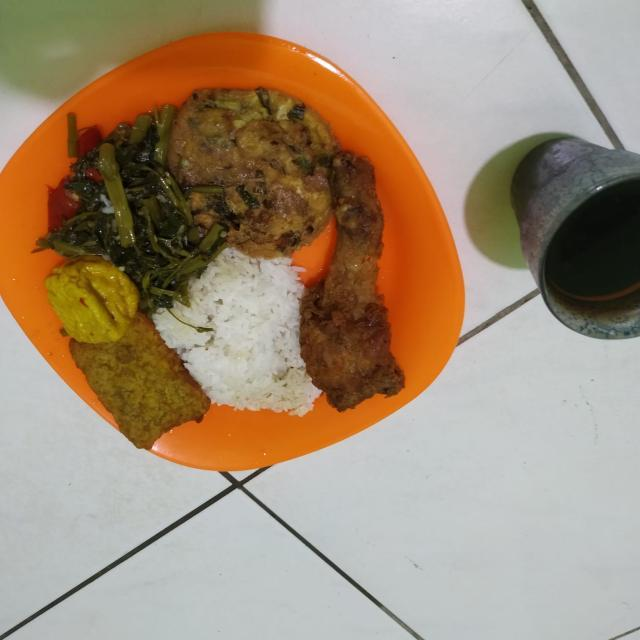ayam_goreng: (287, 158, 407, 414)
nasi_putih: (152, 260, 316, 404), (74, 333, 200, 458)
telur_ayam_dadar: (144, 93, 346, 272)
